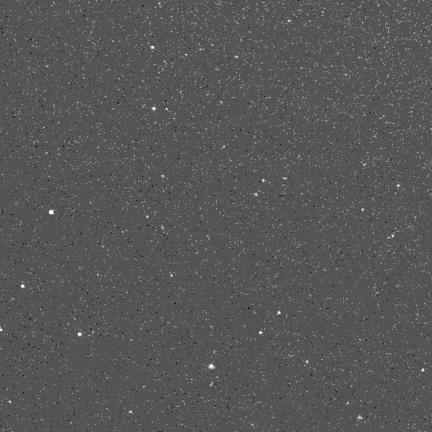blob: (208, 364, 215, 369), (49, 210, 54, 215), (77, 332, 82, 336), (260, 331, 264, 335), (21, 284, 24, 288), (422, 368, 425, 372), (152, 107, 156, 110), (278, 311, 281, 315), (151, 46, 154, 49)
